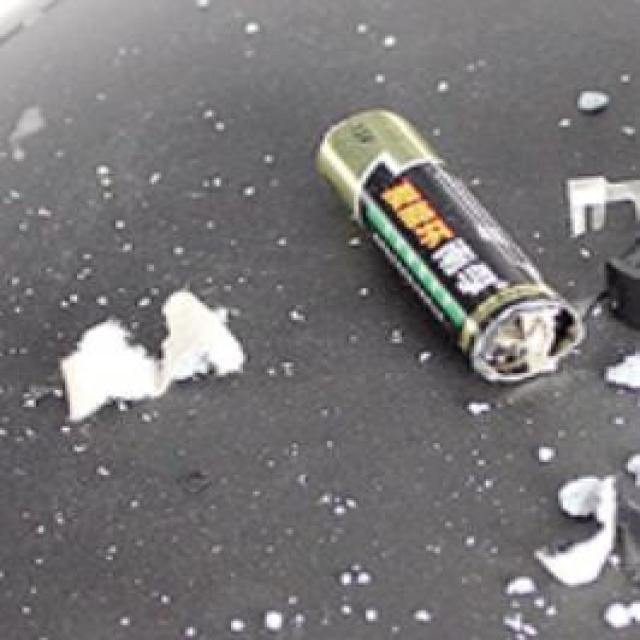-Hazardous waste - battery-: (313, 106, 584, 384)
